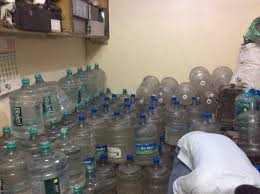plastic: (19, 78, 156, 183)
